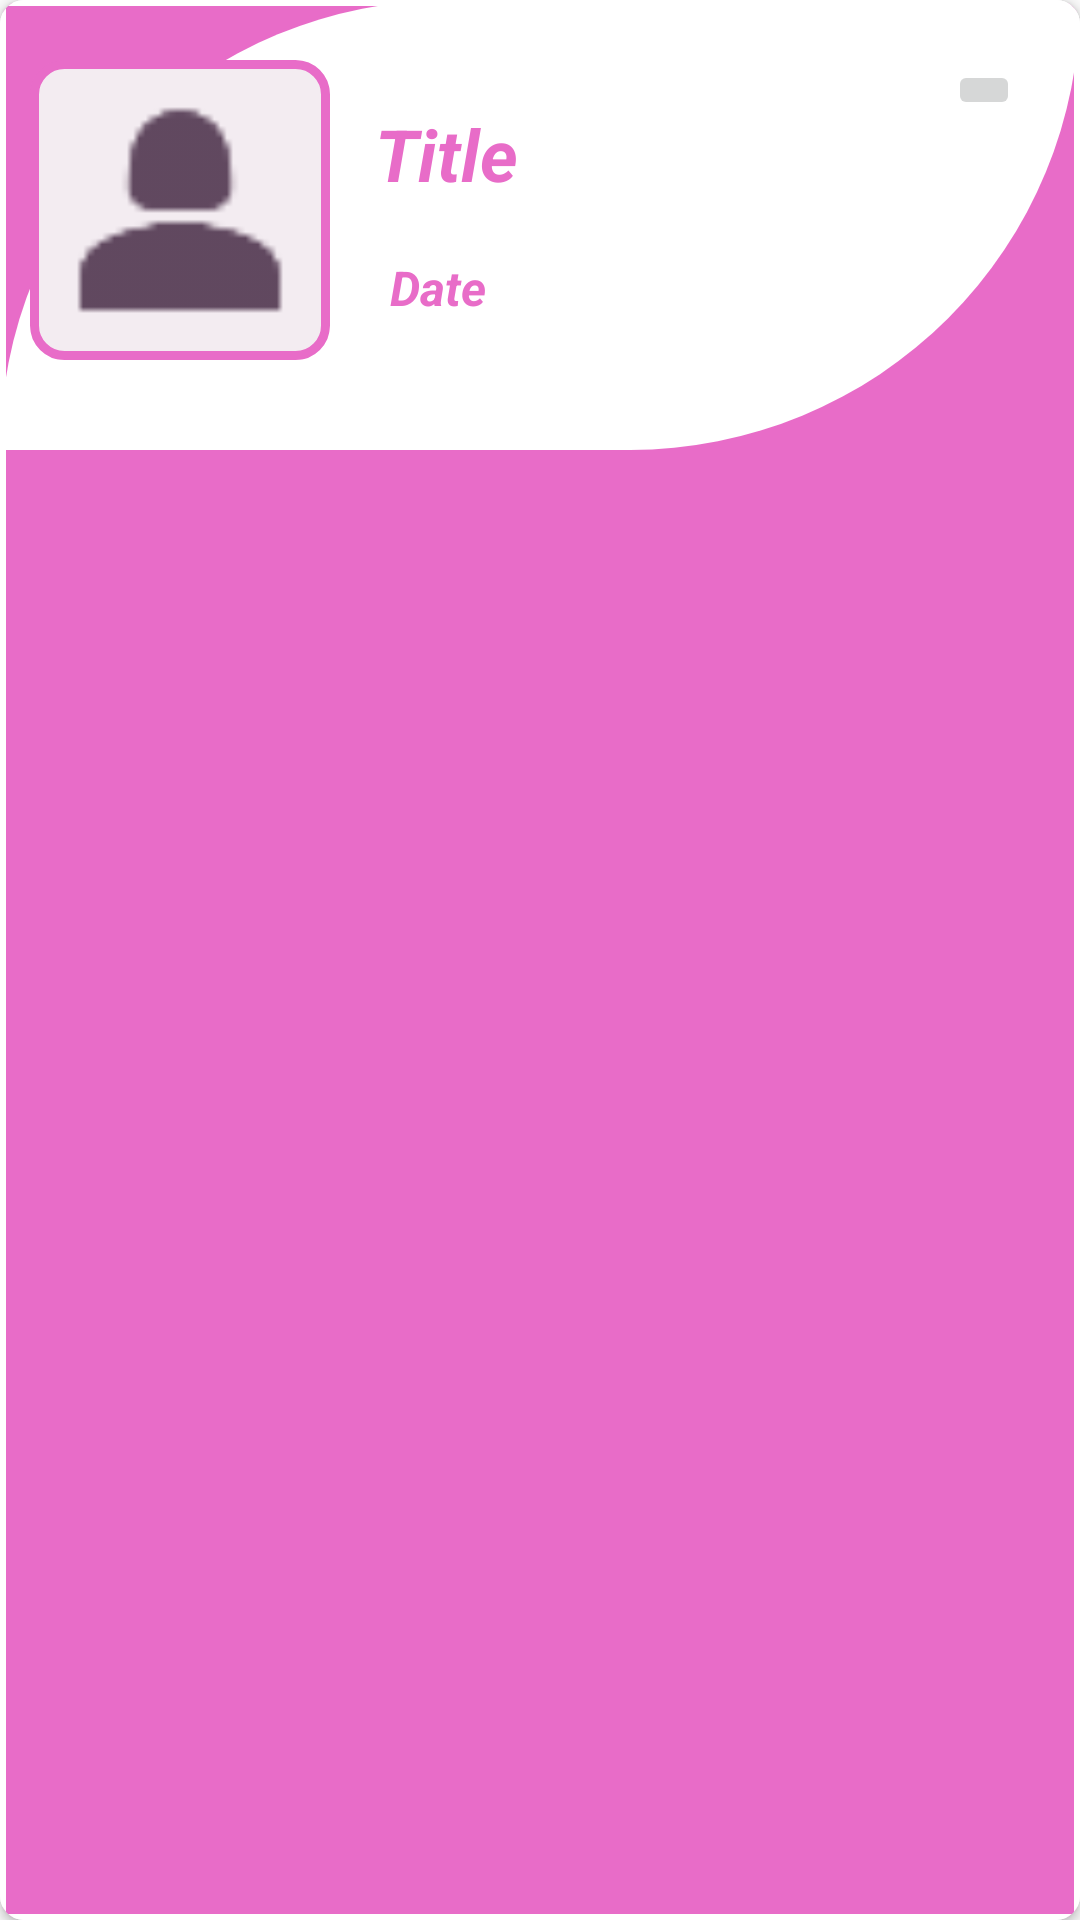

Icon bounding boxes for this 1080 × 1920 phone screenshot, format bbox(x1, y1, x2, y2):
person: bbox(77, 107, 283, 313)
